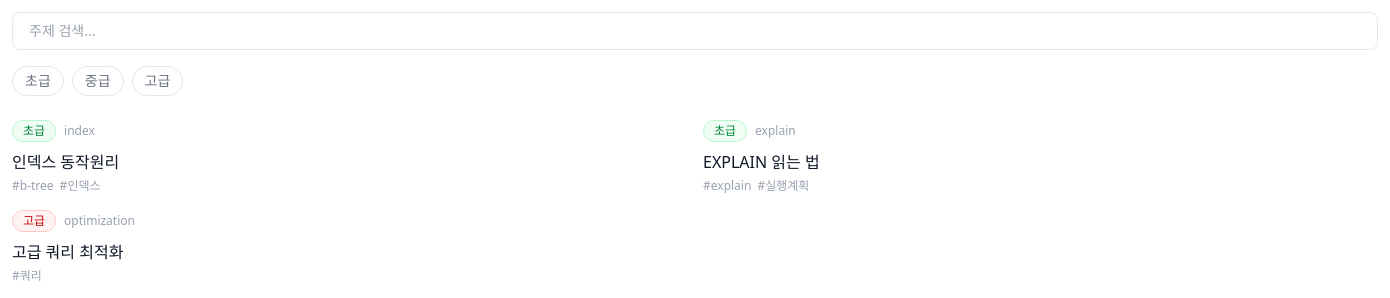
it: ContentList › 난이도 필터를 다시 클릭하면 해제된다
Click the button "고급".
click(157, 81)  # box top-left (132, 66), bottom-right (183, 96)
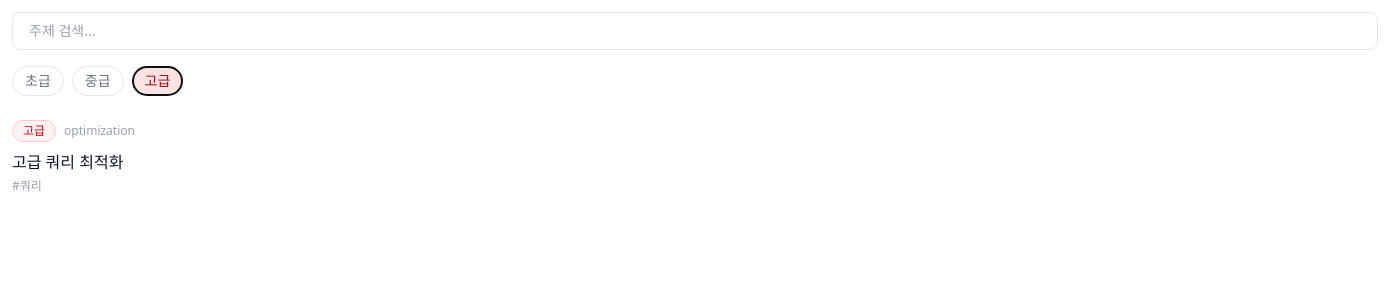
Click the button "고급".
click(157, 81)  # box top-left (132, 66), bottom-right (183, 96)
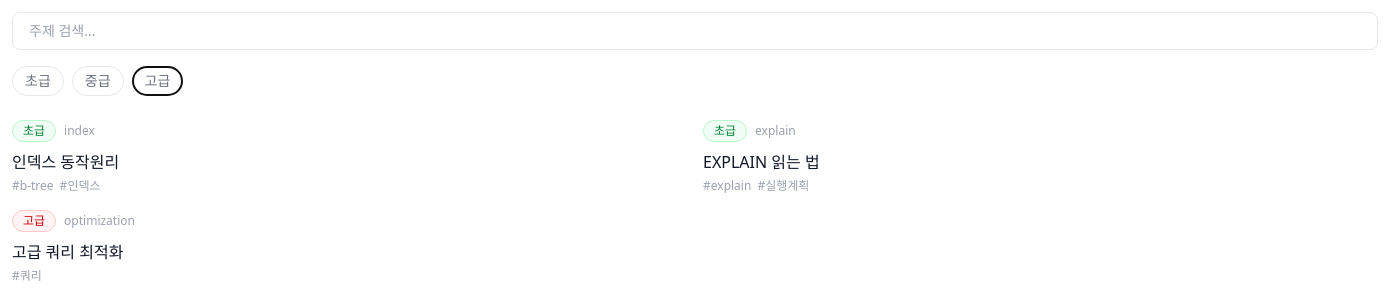
expect the heading "고급 쿼리 최적화" is shown: met, box top-left (12, 241), bottom-right (123, 263)
expect the heading "인덱스 동작원리" is shown: met, box top-left (12, 151), bottom-right (119, 173)
expect the heading "EXPLAIN 읽는 법" is shown: met, box top-left (703, 151), bottom-right (820, 173)
